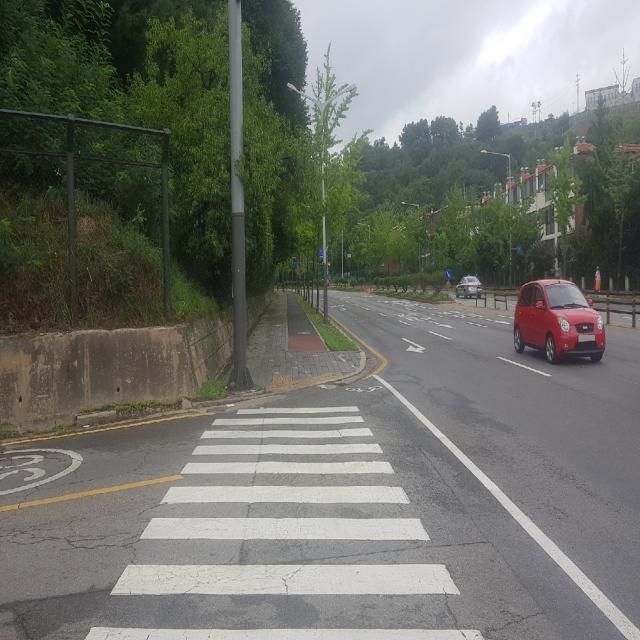횡단보도: (85, 404, 488, 640)
